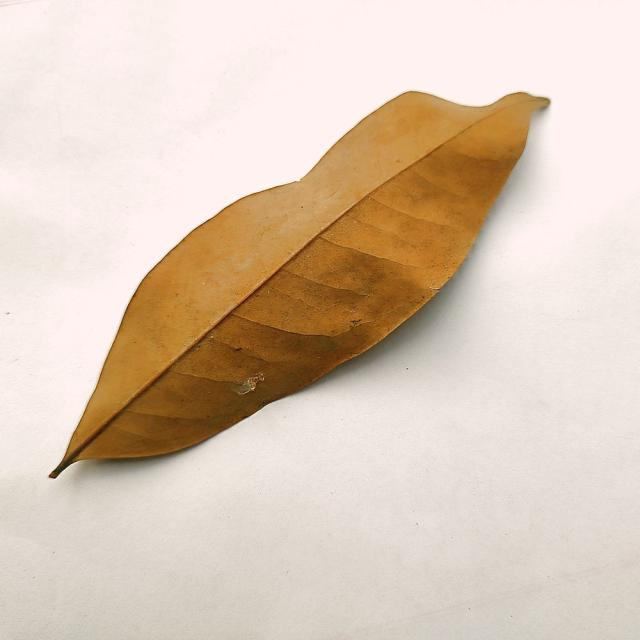Dry_Leaf-Lychee: (54, 92, 549, 478)
